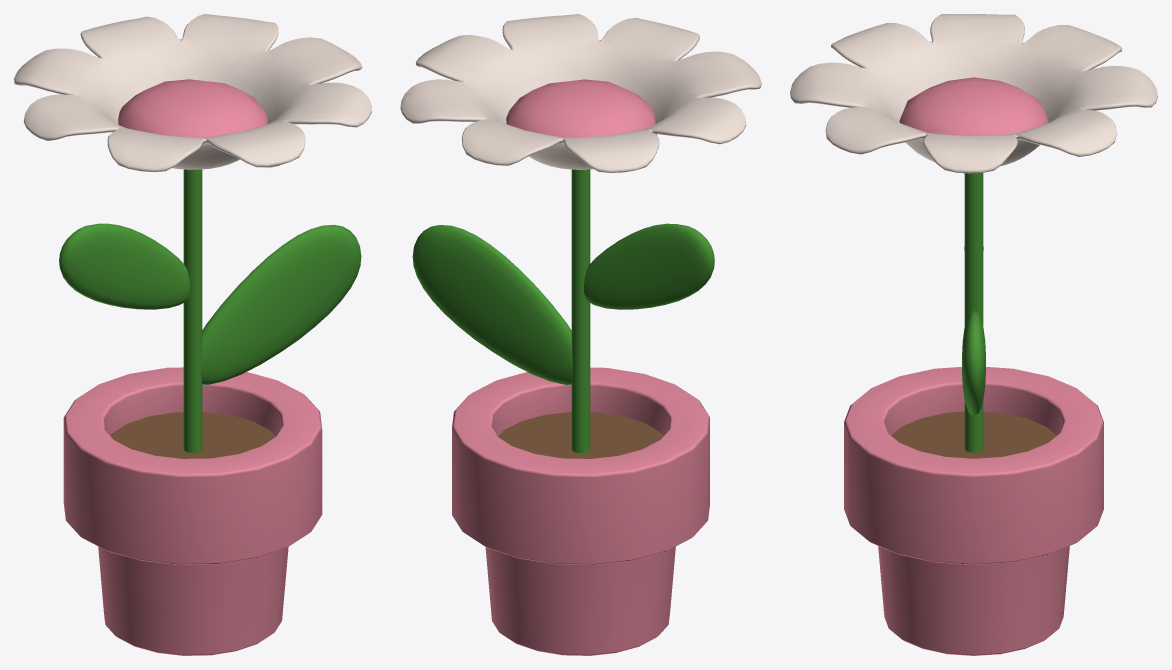
File: Flower_11.glb
3 views of the same model, side by side, from view 1: azimuth 30°, elevation 25°; view 2: azimuth 150°, elevation 25°; view 3: azimuth 270°, elevation 25° (orthographic).
Visible parts, largest first — view 1: Flower_10; view 2: Flower_10; view 3: Flower_10.
Part boxes in pixels (x1,y1,x2,y2): Flower_10: (14,14,371,655); Flower_10: (400,14,761,655); Flower_10: (790,14,1157,655).
Bounding box in the file's own units: 0.4734 × 0.7414 × 0.4607.
Materials: 1 (1 with a texture image).
